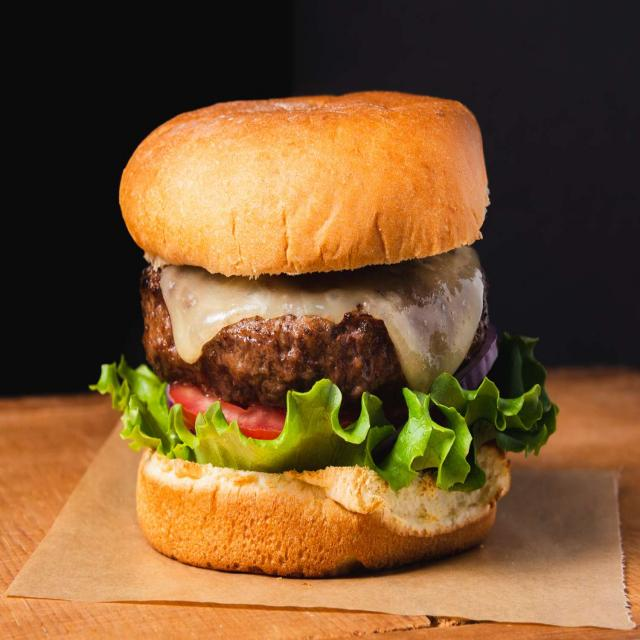burger: (114, 82, 520, 589)
